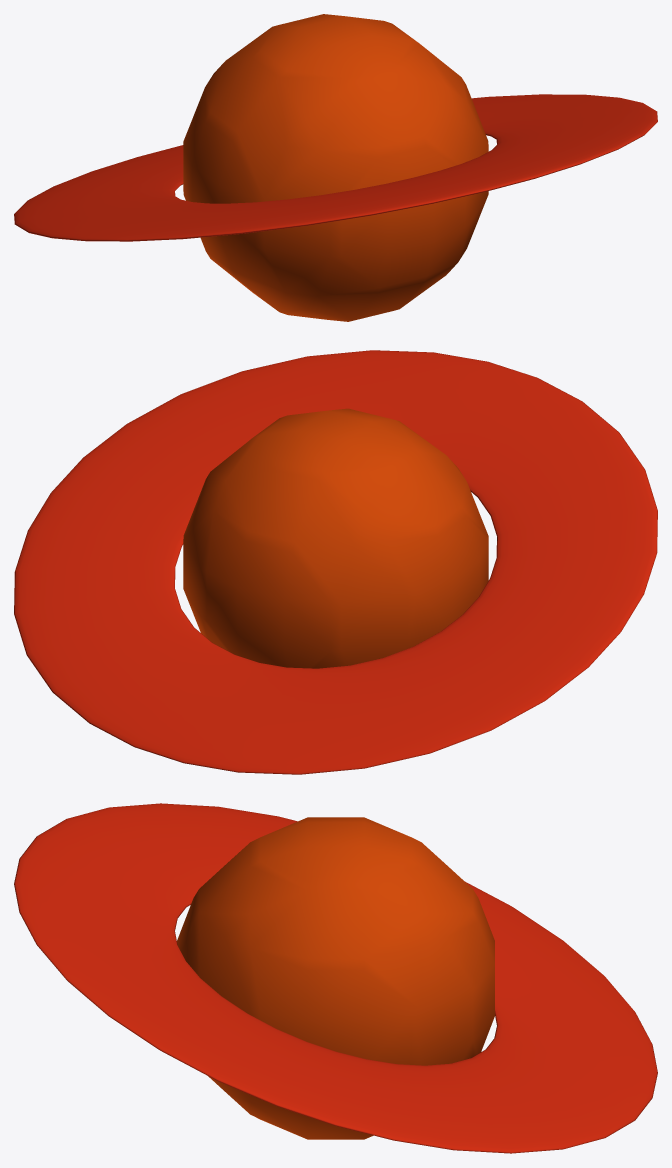
Rendered from anneau.obj.
The picture shows the model from 3 angles, top to bottom: view 1: azimuth 30°, elevation 25°; view 2: azimuth 150°, elevation 25°; view 3: azimuth 270°, elevation 25°; orthographic projection. The views are drawn at different scales.
Visible parts, largest first — view 1: Mball, SurfTorus; view 2: SurfTorus, Mball; view 3: SurfTorus, Mball.
Boxes of the visible parts, x1,y1,x2,y2 form: Mball: (183,14,488,321); SurfTorus: (14,94,657,241); SurfTorus: (14,350,657,774); Mball: (183,408,488,668); SurfTorus: (14,803,657,1153); Mball: (177,817,494,1139).
Bounding box in the file's own units: 11.95 × 5.45 × 11.05.
